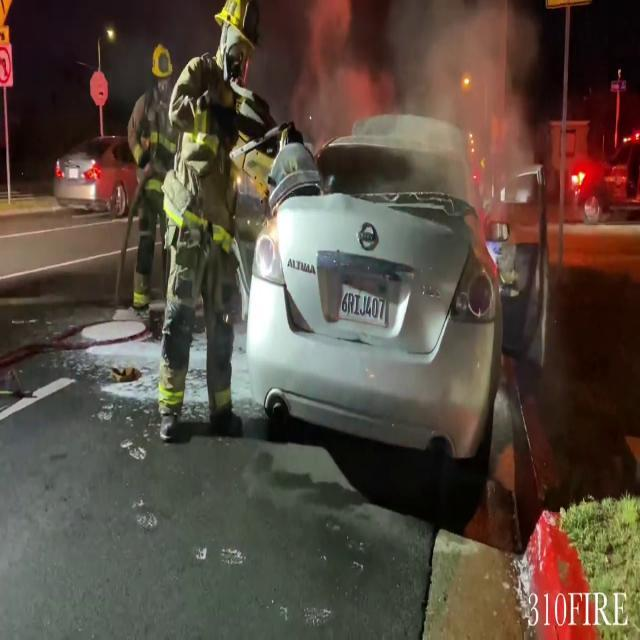Smoke: (290, 0, 538, 133)
